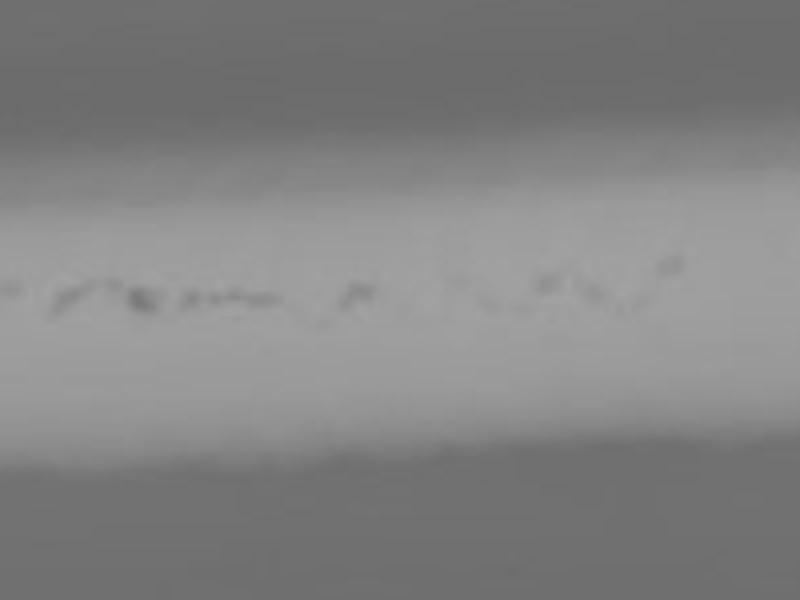defect: (126, 283, 168, 317), (48, 282, 87, 311), (656, 249, 688, 283), (534, 272, 565, 300), (582, 282, 611, 310), (246, 291, 281, 310), (1, 274, 23, 304), (178, 283, 204, 308), (477, 289, 499, 318), (349, 279, 372, 304), (99, 272, 125, 291), (223, 284, 247, 304), (333, 286, 347, 314), (206, 290, 226, 307)
